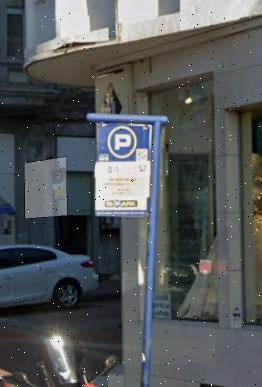park: (95, 123, 153, 159)
